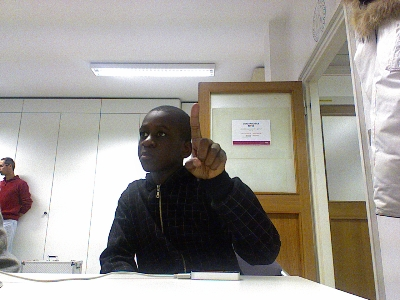食指: (182, 102, 227, 179)
